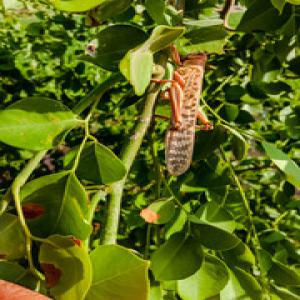locust: (154, 37, 213, 170)
